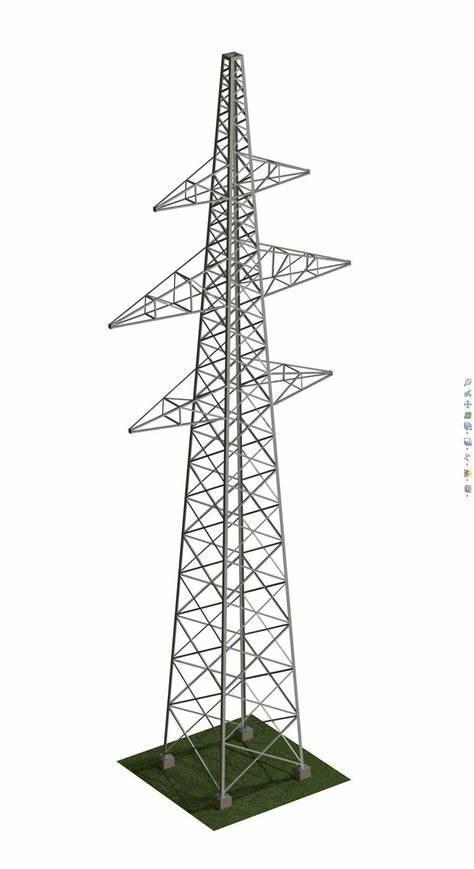power_tower: (107, 52, 368, 811)
